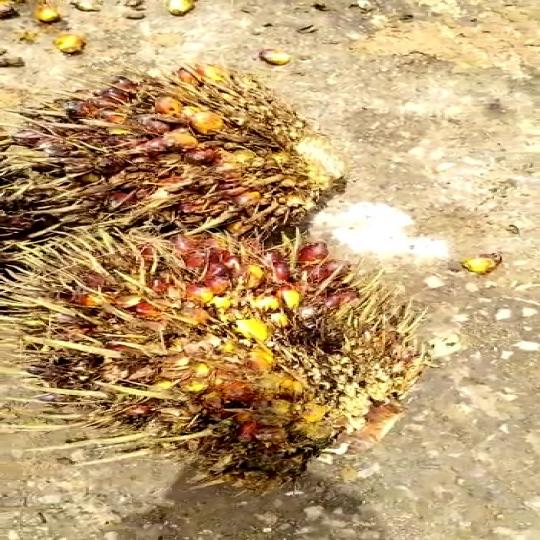masak: (0, 224, 408, 478), (19, 63, 333, 249)
